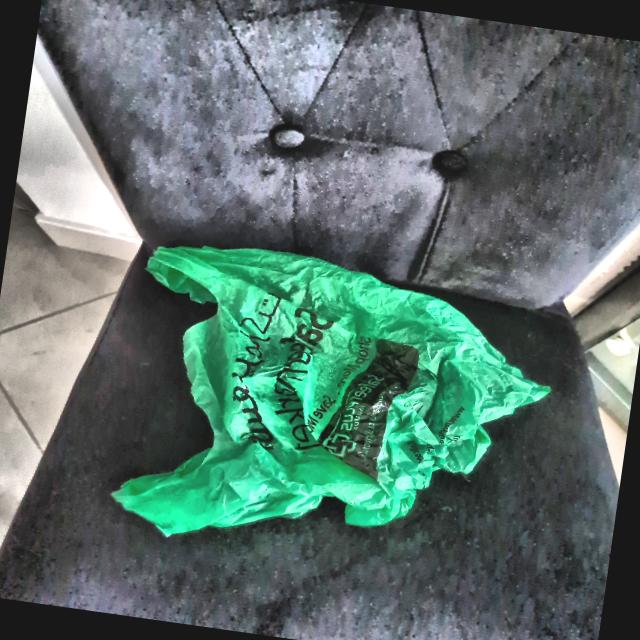plastic bag: (106, 230, 536, 580)
